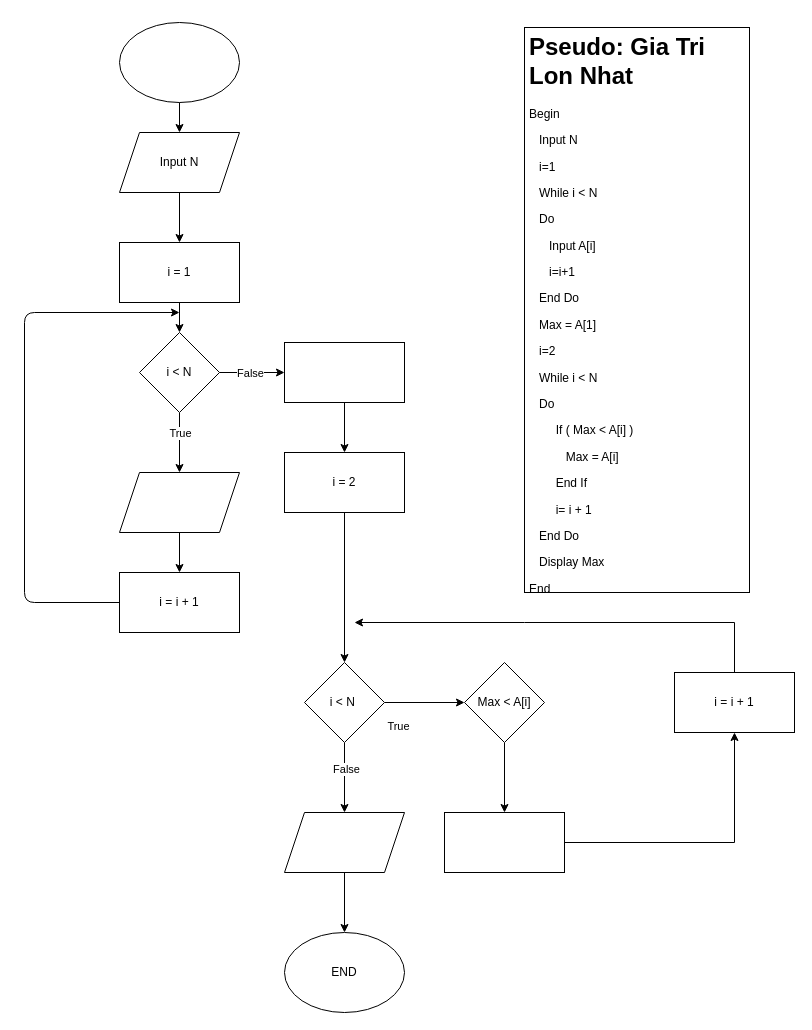
The diagram is 812 pixels wide and 1030 high, and some of its shapes have lost their labels. Here are the shapes that lost their labels. From the top down, the box of each, then its label:
(118, 22, 240, 102): BEGIN
(284, 342, 404, 402): Max = A[1]
(118, 472, 240, 532): Input A[i]
(284, 812, 404, 872): Display Max
(444, 812, 564, 872): Max = A[i]
